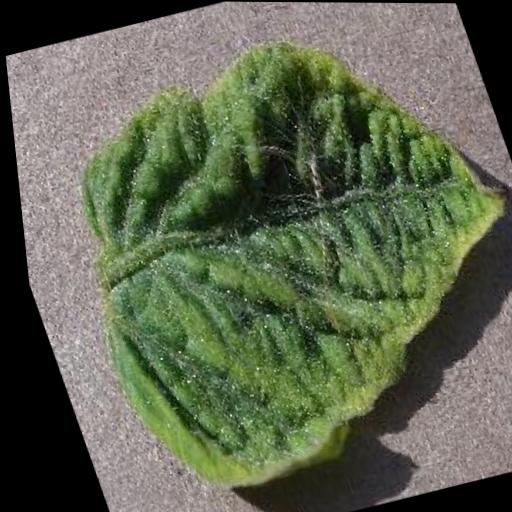Yellow Leaf Curl Virus: (13, 0, 512, 507)
